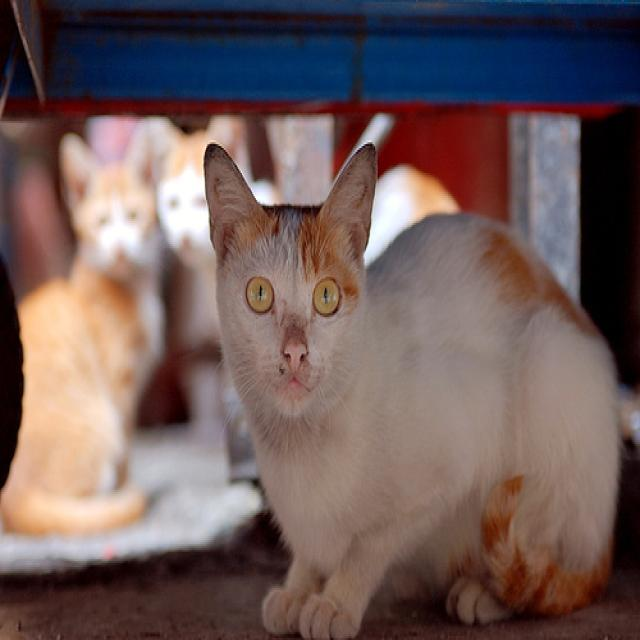left eye: (310, 275, 342, 317)
